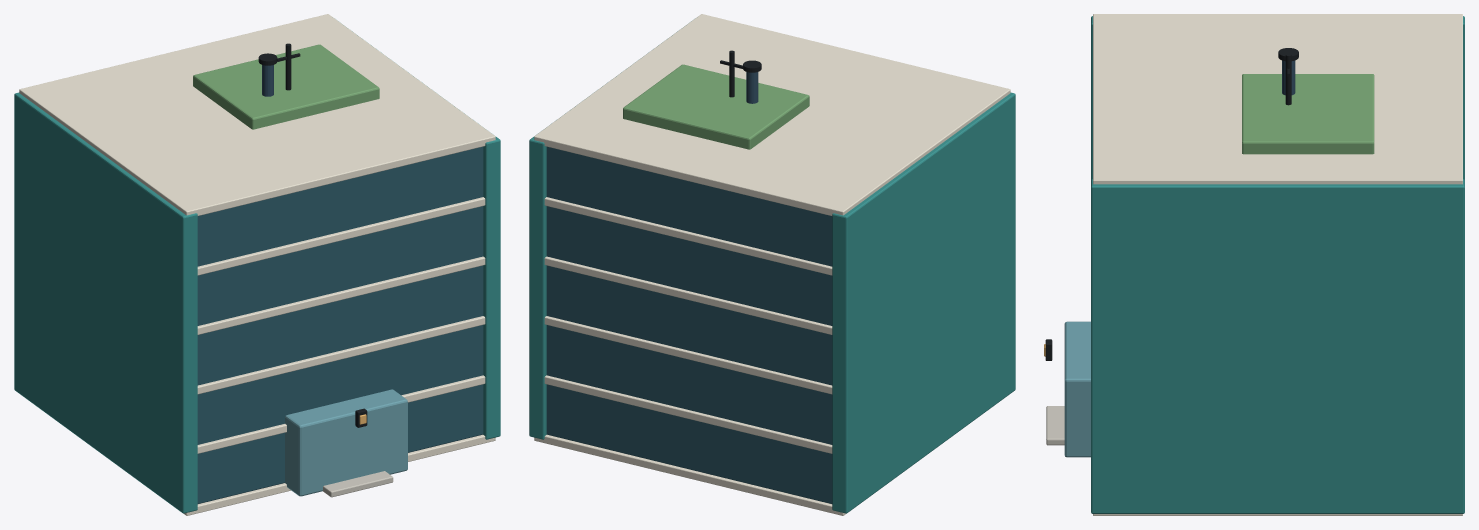
3 renders of one model, left to right at view 1: azimuth 30°, elevation 25°; view 2: azimuth 150°, elevation 25°; view 3: azimuth 270°, elevation 25°, orthographic. The views are drawn at different scales.
Visible parts, largest first — view 1: OFF_LOW_2x2_001_Visual; view 2: OFF_LOW_2x2_001_Visual; view 3: OFF_LOW_2x2_001_Visual.
Part boxes in pixels (bbox=[...]): OFF_LOW_2x2_001_Visual: bbox=[14, 14, 500, 515]; OFF_LOW_2x2_001_Visual: bbox=[529, 14, 1015, 515]; OFF_LOW_2x2_001_Visual: bbox=[1044, 14, 1464, 515].
Size of what is drawn, in the model's own units: 3.36 by 3.64 by 3.49.
